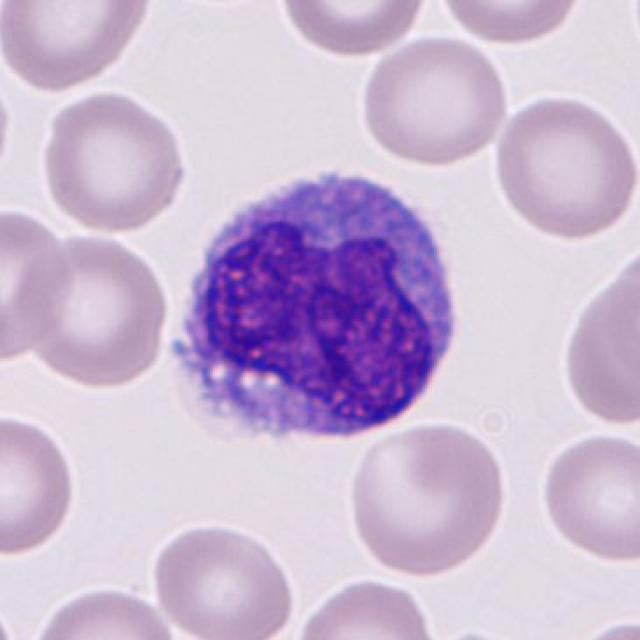Monocyte: (159, 154, 472, 463)
RBC: (343, 418, 512, 579), (17, 229, 175, 392), (37, 87, 192, 236), (488, 90, 638, 243), (357, 33, 512, 170), (147, 518, 301, 640), (558, 246, 640, 432), (0, 0, 161, 94), (537, 427, 638, 567), (0, 203, 77, 364), (0, 411, 80, 558), (290, 574, 442, 640), (274, 0, 434, 61), (26, 581, 184, 640), (434, 0, 589, 47), (559, 614, 640, 640)
